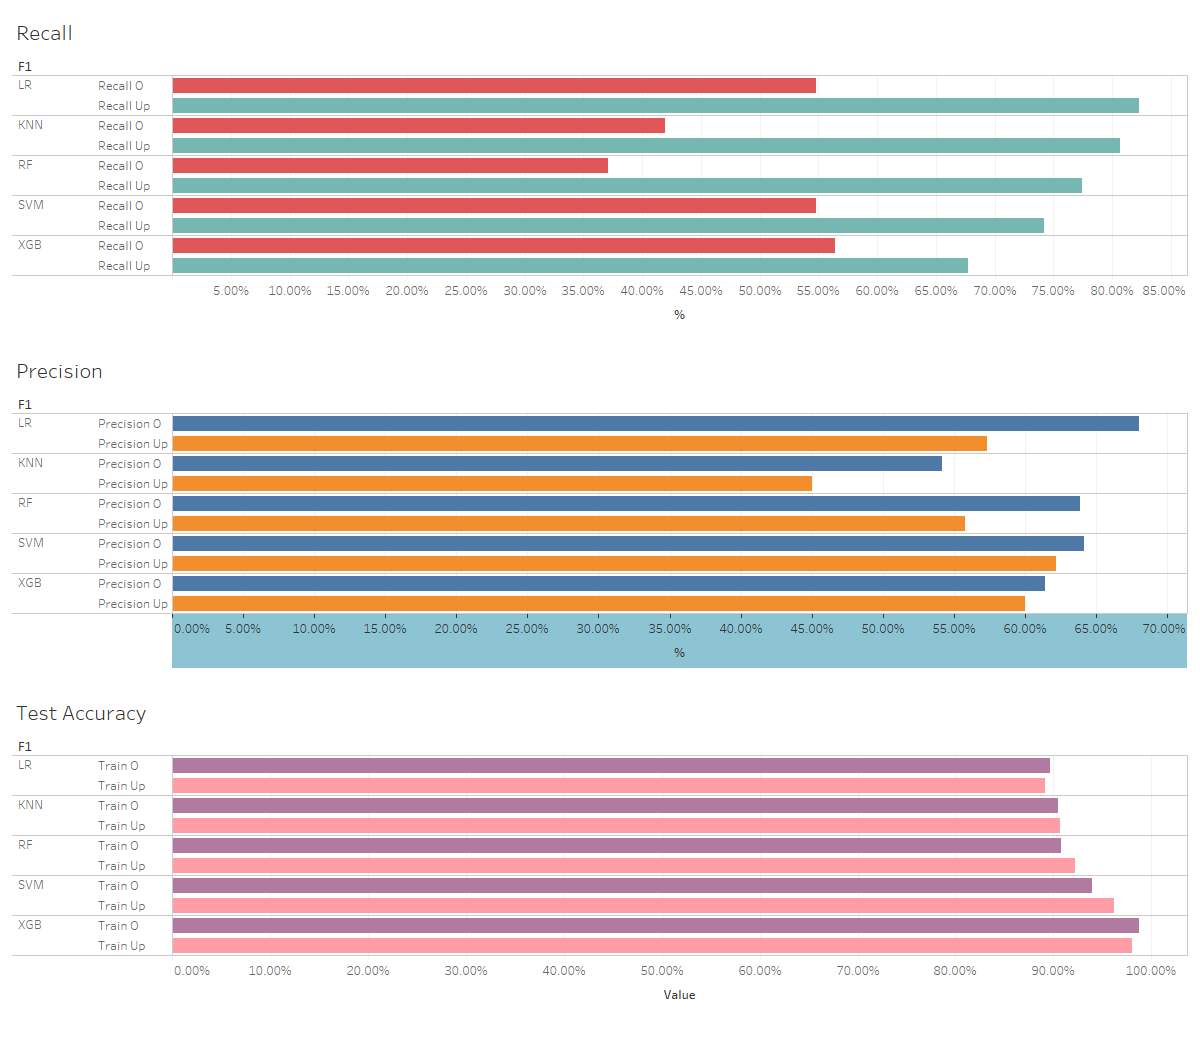

This screenshot's page, from the dashboard's own definition file:
{"tool":"tableau","page":{"name":"Dashboard 1","canvas":[1200,1000],"ordinal":0},"visuals":[{"type":"worksheet","box":[0,0,1200,1000]},{"type":"worksheet","param":"horz","box":[8,8,1184,984]},{"type":"worksheet","box":[8,8,1184,984]},{"type":"worksheet","title":"recall","mark":"Automatic","rows":["F1"],"box":[8,8,1184,322]},{"type":"worksheet","title":"precision","mark":"Automatic","rows":["F1"],"box":[8,330,1184,325]},{"type":"worksheet","title":"test_acc","mark":"Automatic","rows":["F1"],"box":[8,655,1184,337]}]}

Visuals, with their boxes on the page's 1200x1000 design canvas (x1, y1, x2, y2). These are canvas units, not pixel positions in the 1200x1050 screenshot, which may show the page scaled, cropped or inside an application window:
worksheet: left=0, top=0, right=1200, bottom=1000
worksheet: left=8, top=8, right=1192, bottom=992
worksheet: left=8, top=8, right=1192, bottom=992
"recall" worksheet: left=8, top=8, right=1192, bottom=330
"precision" worksheet: left=8, top=330, right=1192, bottom=655
"test_acc" worksheet: left=8, top=655, right=1192, bottom=992
